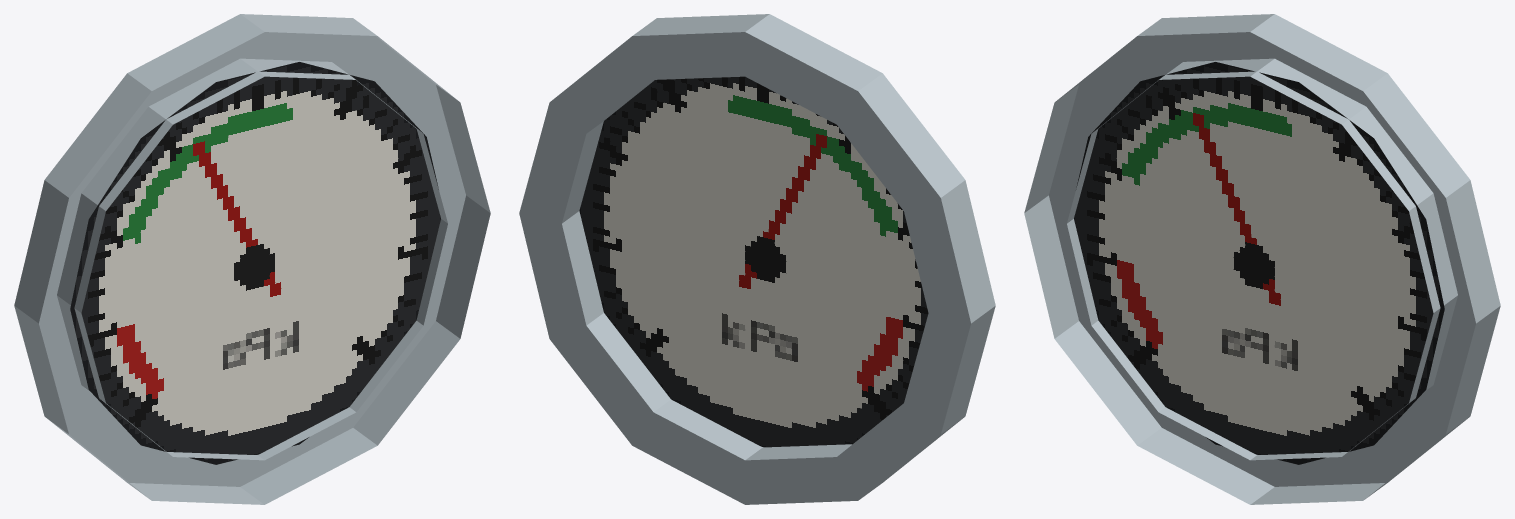
The model's file is cell_55.obj.
3 renders of one model, left to right at view 1: azimuth 30°, elevation 25°; view 2: azimuth 150°, elevation 25°; view 3: azimuth 330°, elevation 25°, orthographic.
Size of the model in its own units: 0.1484 by 0.1484 by 0.014.
